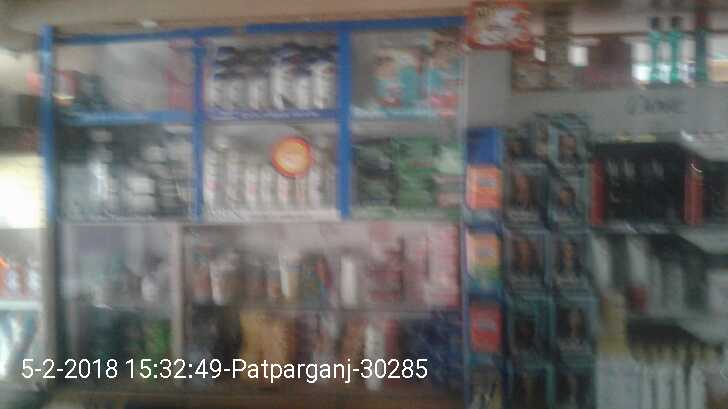beauty: (205, 61, 336, 113)
pharmacy: (379, 50, 425, 106), (429, 52, 459, 102), (397, 142, 437, 177), (357, 141, 392, 173), (397, 181, 436, 207), (357, 181, 392, 203)
